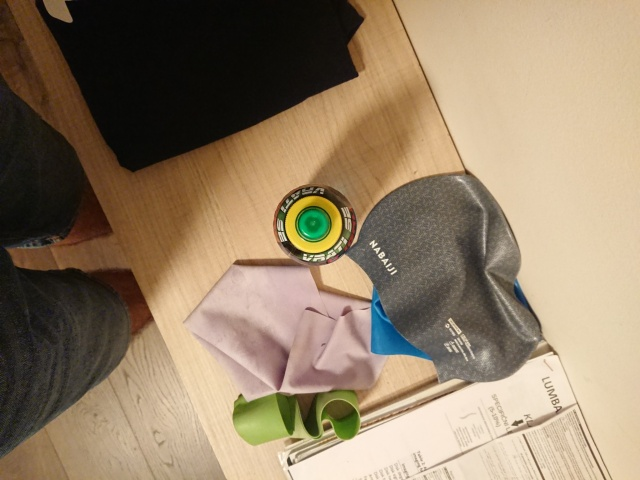Vindi Iso Sport Forest Strawberries 500mL: (271, 181, 359, 268)
